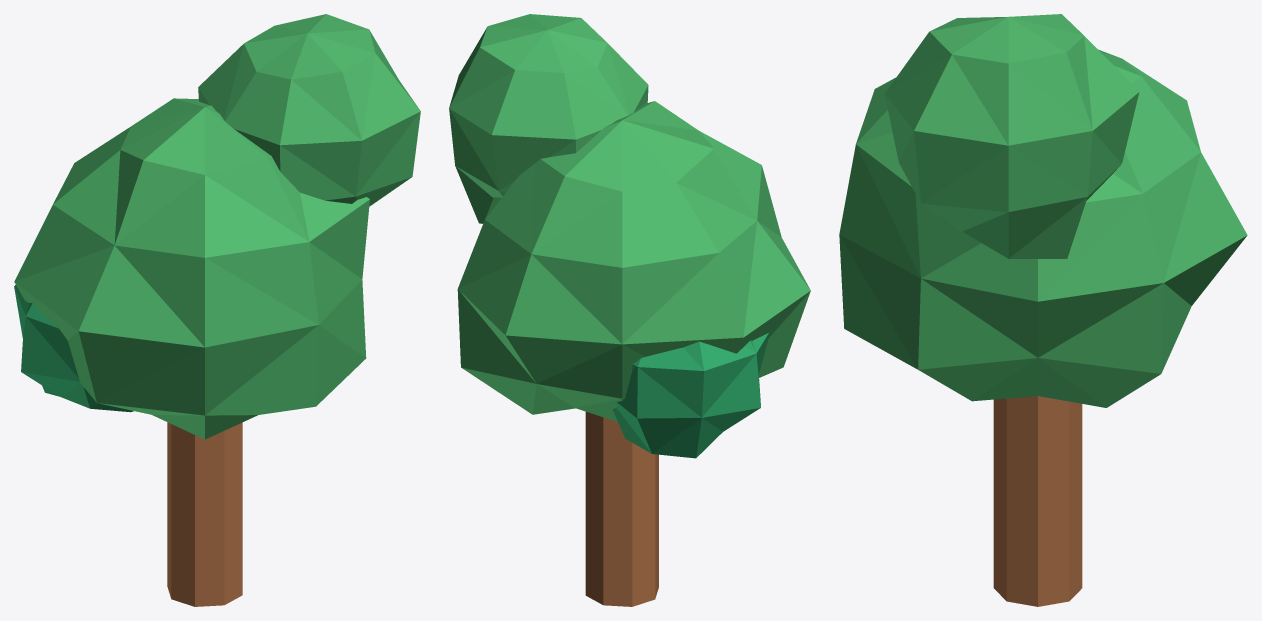
Rendered from tree_round2.obj.
3 views of the same model, side by side, from view 1: azimuth 30°, elevation 25°; view 2: azimuth 150°, elevation 25°; view 3: azimuth 270°, elevation 25° (orthographic). The views are drawn at different scales.
Size of the model in its own units: 5.37 by 8.12 by 4.84.
